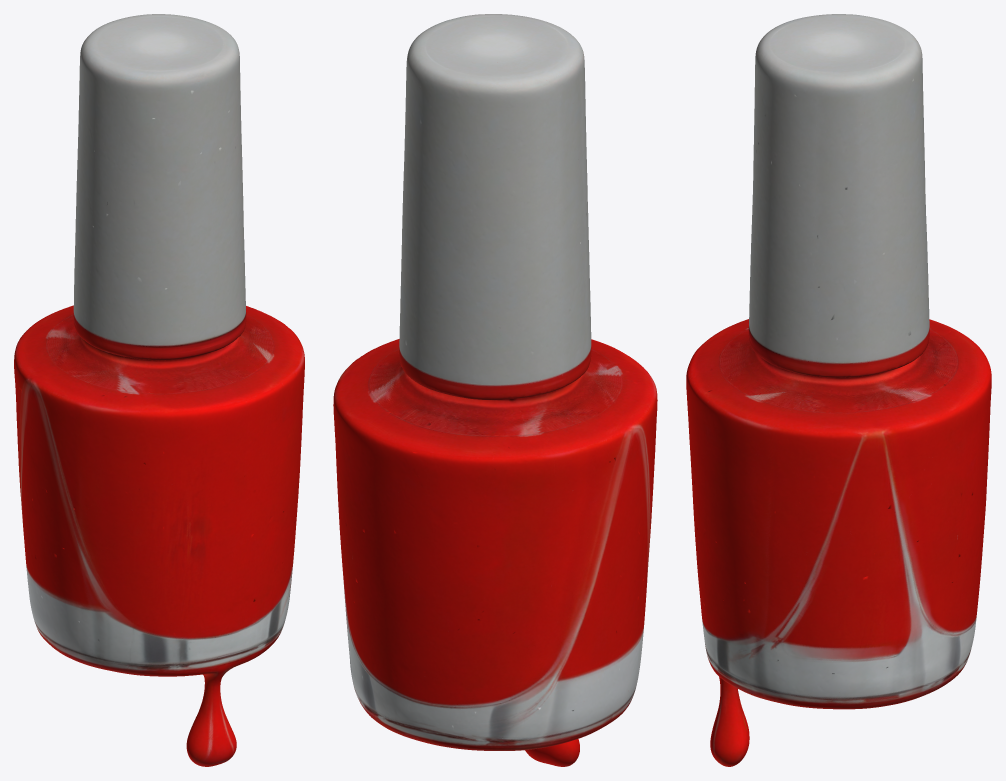
File: nailpolish_colorfull.glb
3 renders of one model, left to right at view 1: azimuth 30°, elevation 25°; view 2: azimuth 150°, elevation 25°; view 3: azimuth 270°, elevation 25°, orthographic. The views are drawn at different scales.
Bounding box in the file's own units: 0.7723 × 2 × 0.7726.
1 material, 1 textured.
